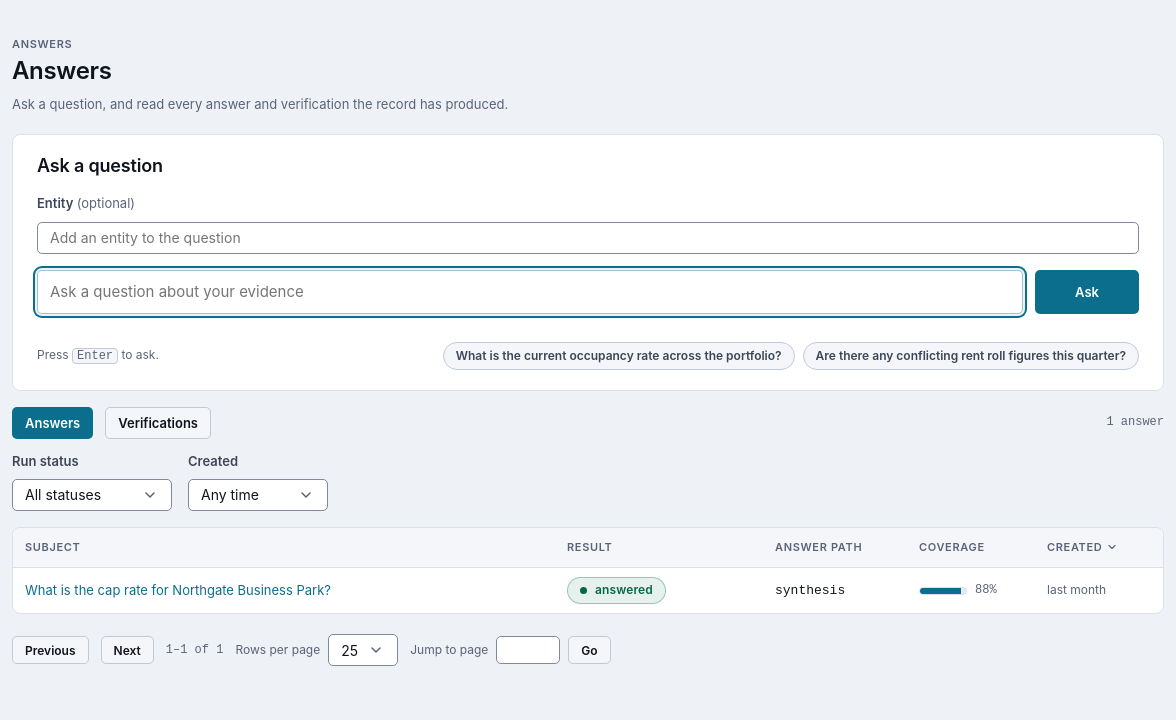
Test: AnswersPage › applies the Last 7 days preset as whole local days including today
The image size is (1176, 720).
Expected: the text "What is the cap rate for Northgate Business Park?" is shown, [25,582,331,598]
Select "Last 7 days" in the dropdown labelled "Created" at x=258, y=495, box [188,479,328,511]
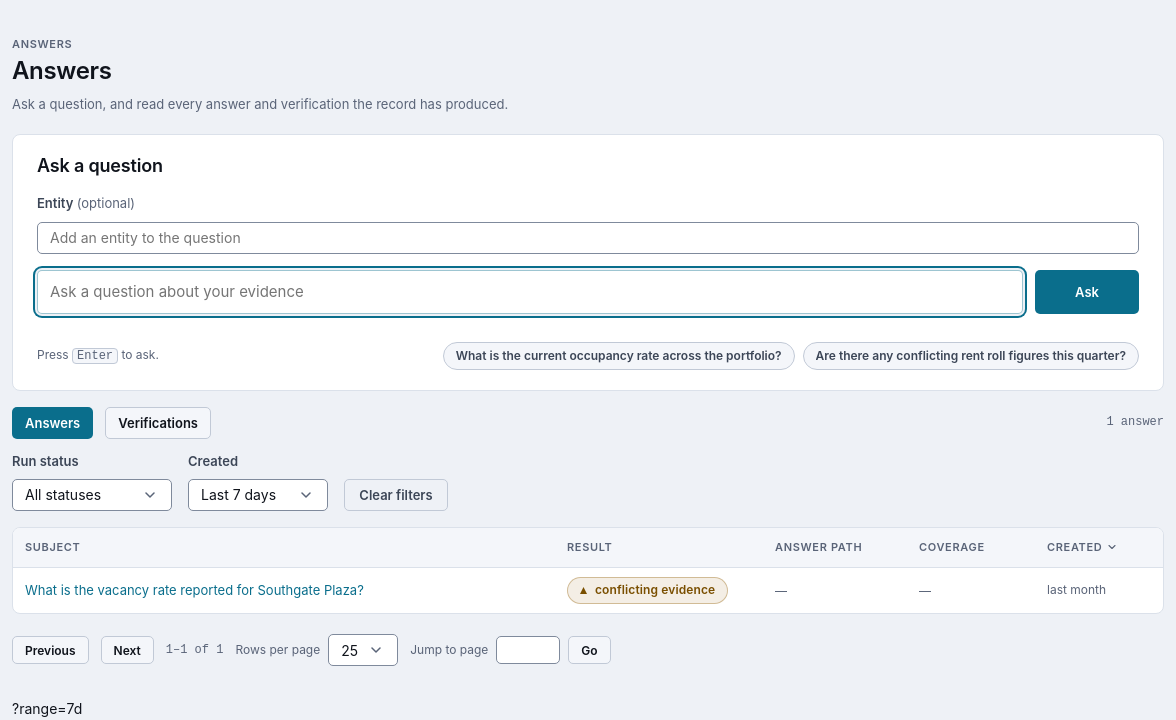
Now the text "What is the vacancy rate reported for Southgate Plaza?" is shown, box [25,582,364,598]
Now the text named "current search" reads "?range=7d", box [12,700,82,717]
Now the button "Clear filters" is shown, box [344,479,448,511]
